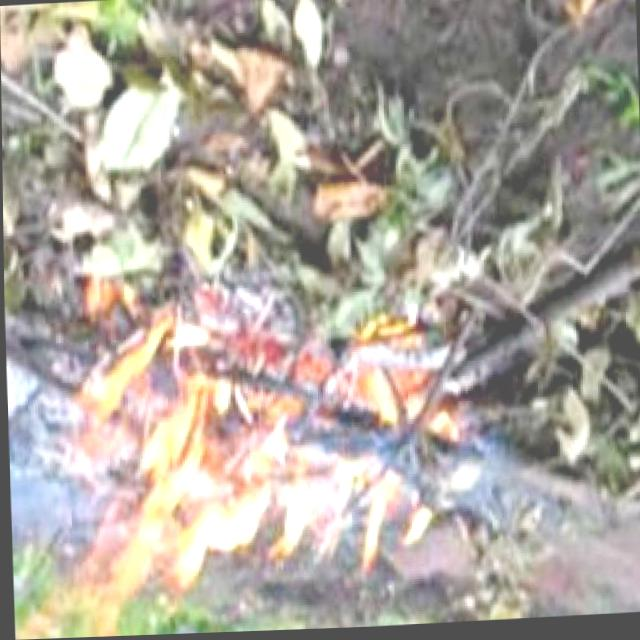Fire: (54, 293, 480, 614)
